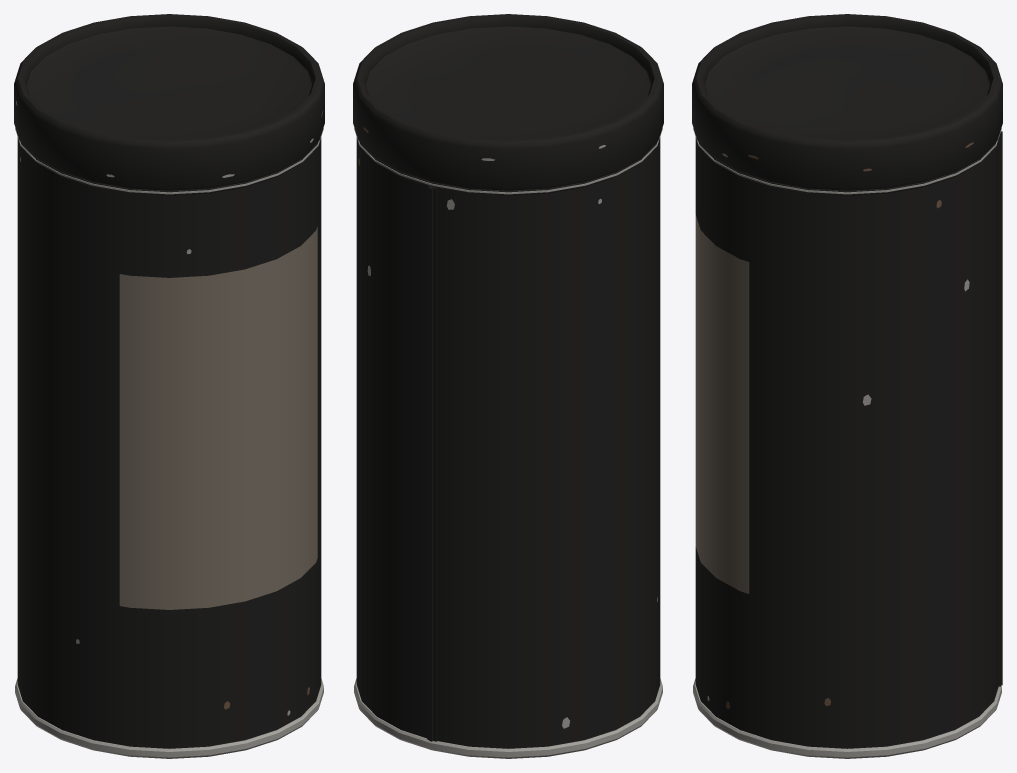
The model's file is coffee-storage-tin-128bfdb363e0.glb.
3 views of the same model, side by side, from view 1: azimuth 30°, elevation 25°; view 2: azimuth 150°, elevation 25°; view 3: azimuth 270°, elevation 25° (orthographic).
Visible parts, largest first — view 1: enamel-black, cover-print, brushed; view 2: enamel-black, brushed; view 3: enamel-black, cover-print, brushed.
Boxes of the visible parts, left/top/right/bottom form: enamel-black: left=14, top=14, right=324, bottom=748; cover-print: left=119, top=226, right=317, bottom=609; brushed: left=15, top=101, right=323, bottom=758; enamel-black: left=353, top=14, right=663, bottom=748; brushed: left=354, top=128, right=662, bottom=758; enamel-black: left=692, top=14, right=1002, bottom=748; cover-print: left=695, top=215, right=749, bottom=593; brushed: left=693, top=128, right=1001, bottom=758.
Size of the model in its own units: 0.112 by 0.245 by 0.112.
